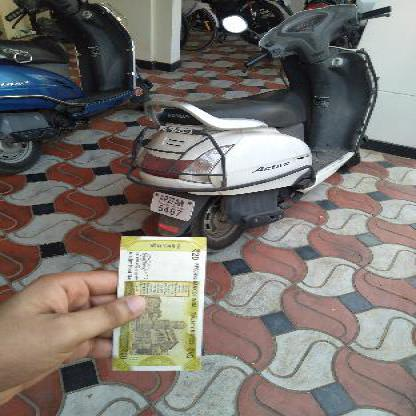New20Back: (118, 235, 206, 366)
